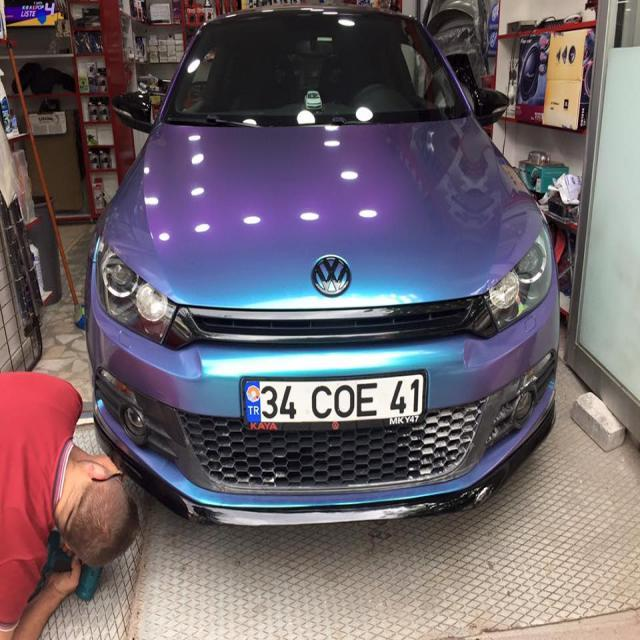plate: (239, 369, 430, 436)
